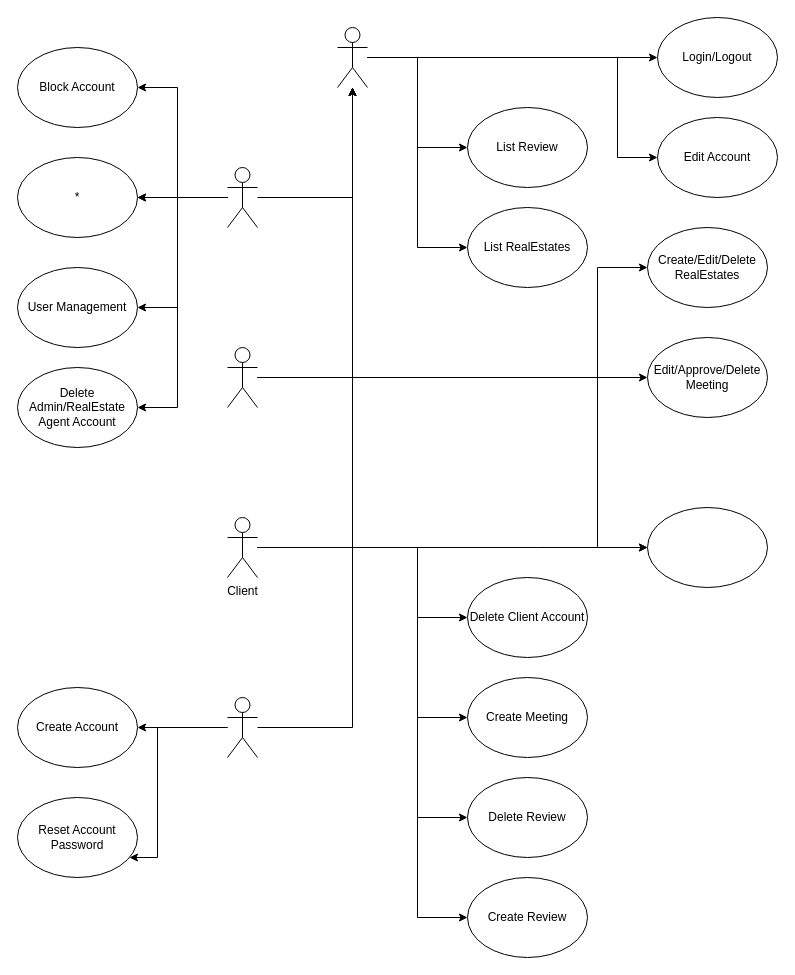
Image size: 795x975. Some labels were removed from this diagram. The centre of each missing label's shape, as x and y in pixels:
"Admin" goes at point 242,197.
"Anonymous" goes at point 242,727.
"List Meeting" goes at point 707,547.
"Real Estate Agent" goes at point 242,377.
"User" goes at point 352,57.
